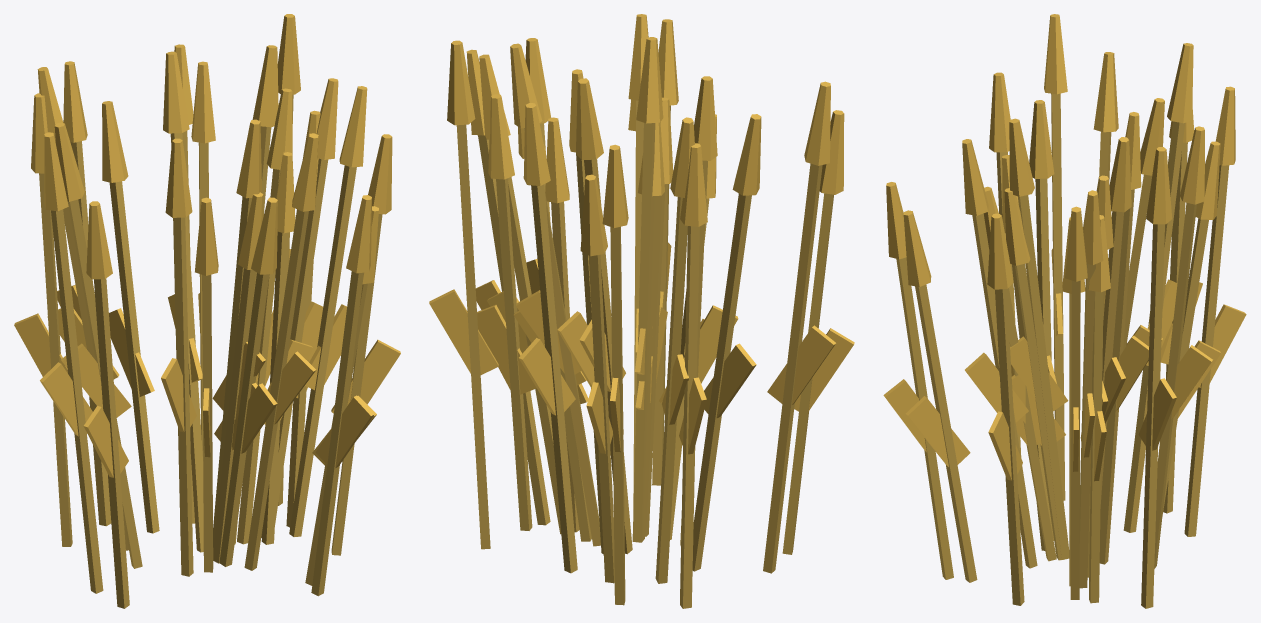
File: Wheat_Patch.fbx
The picture shows the model from 3 angles, left to right: view 1: azimuth 30°, elevation 25°; view 2: azimuth 150°, elevation 25°; view 3: azimuth 270°, elevation 25°; orthographic projection. The views are drawn at different scales.
Parts seen in each view (by area): view 1: Wheat_Patch; view 2: Wheat_Patch; view 3: Wheat_Patch.
Part boxes in pixels (x1,y1,x2,y2): Wheat_Patch: (14,14,400,608); Wheat_Patch: (429,14,854,608); Wheat_Patch: (883,14,1246,608).
Bounding box in the file's own units: 0.8707 × 1.18 × 0.8308.
